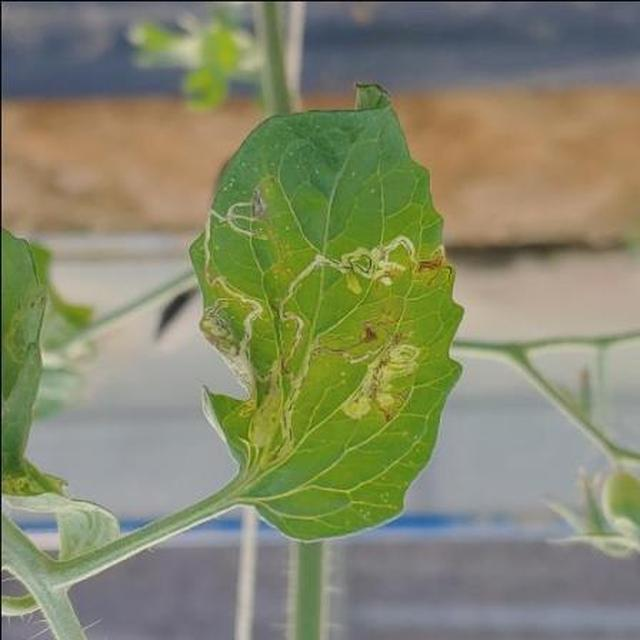Leaf Miner: (264, 127, 640, 640)
